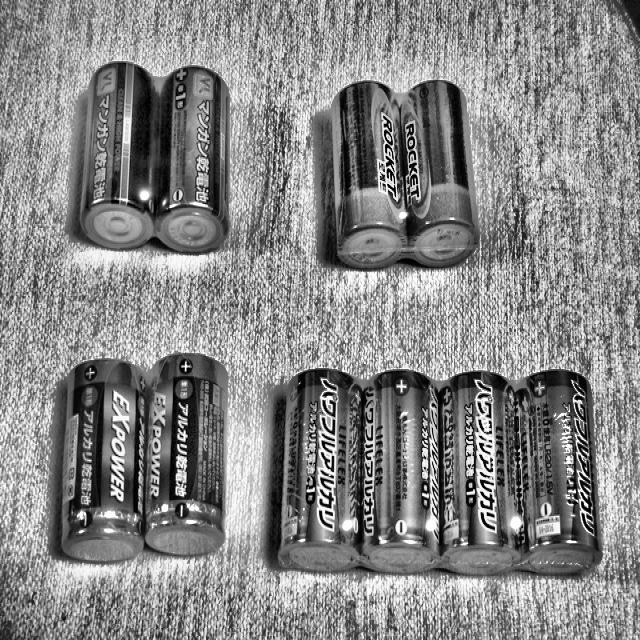drycell: (270, 368, 369, 584), (514, 362, 602, 589), (143, 352, 233, 572), (359, 370, 444, 582), (441, 369, 521, 592), (69, 54, 158, 253), (63, 358, 144, 568), (156, 61, 234, 259), (330, 77, 410, 270), (405, 75, 481, 272)
